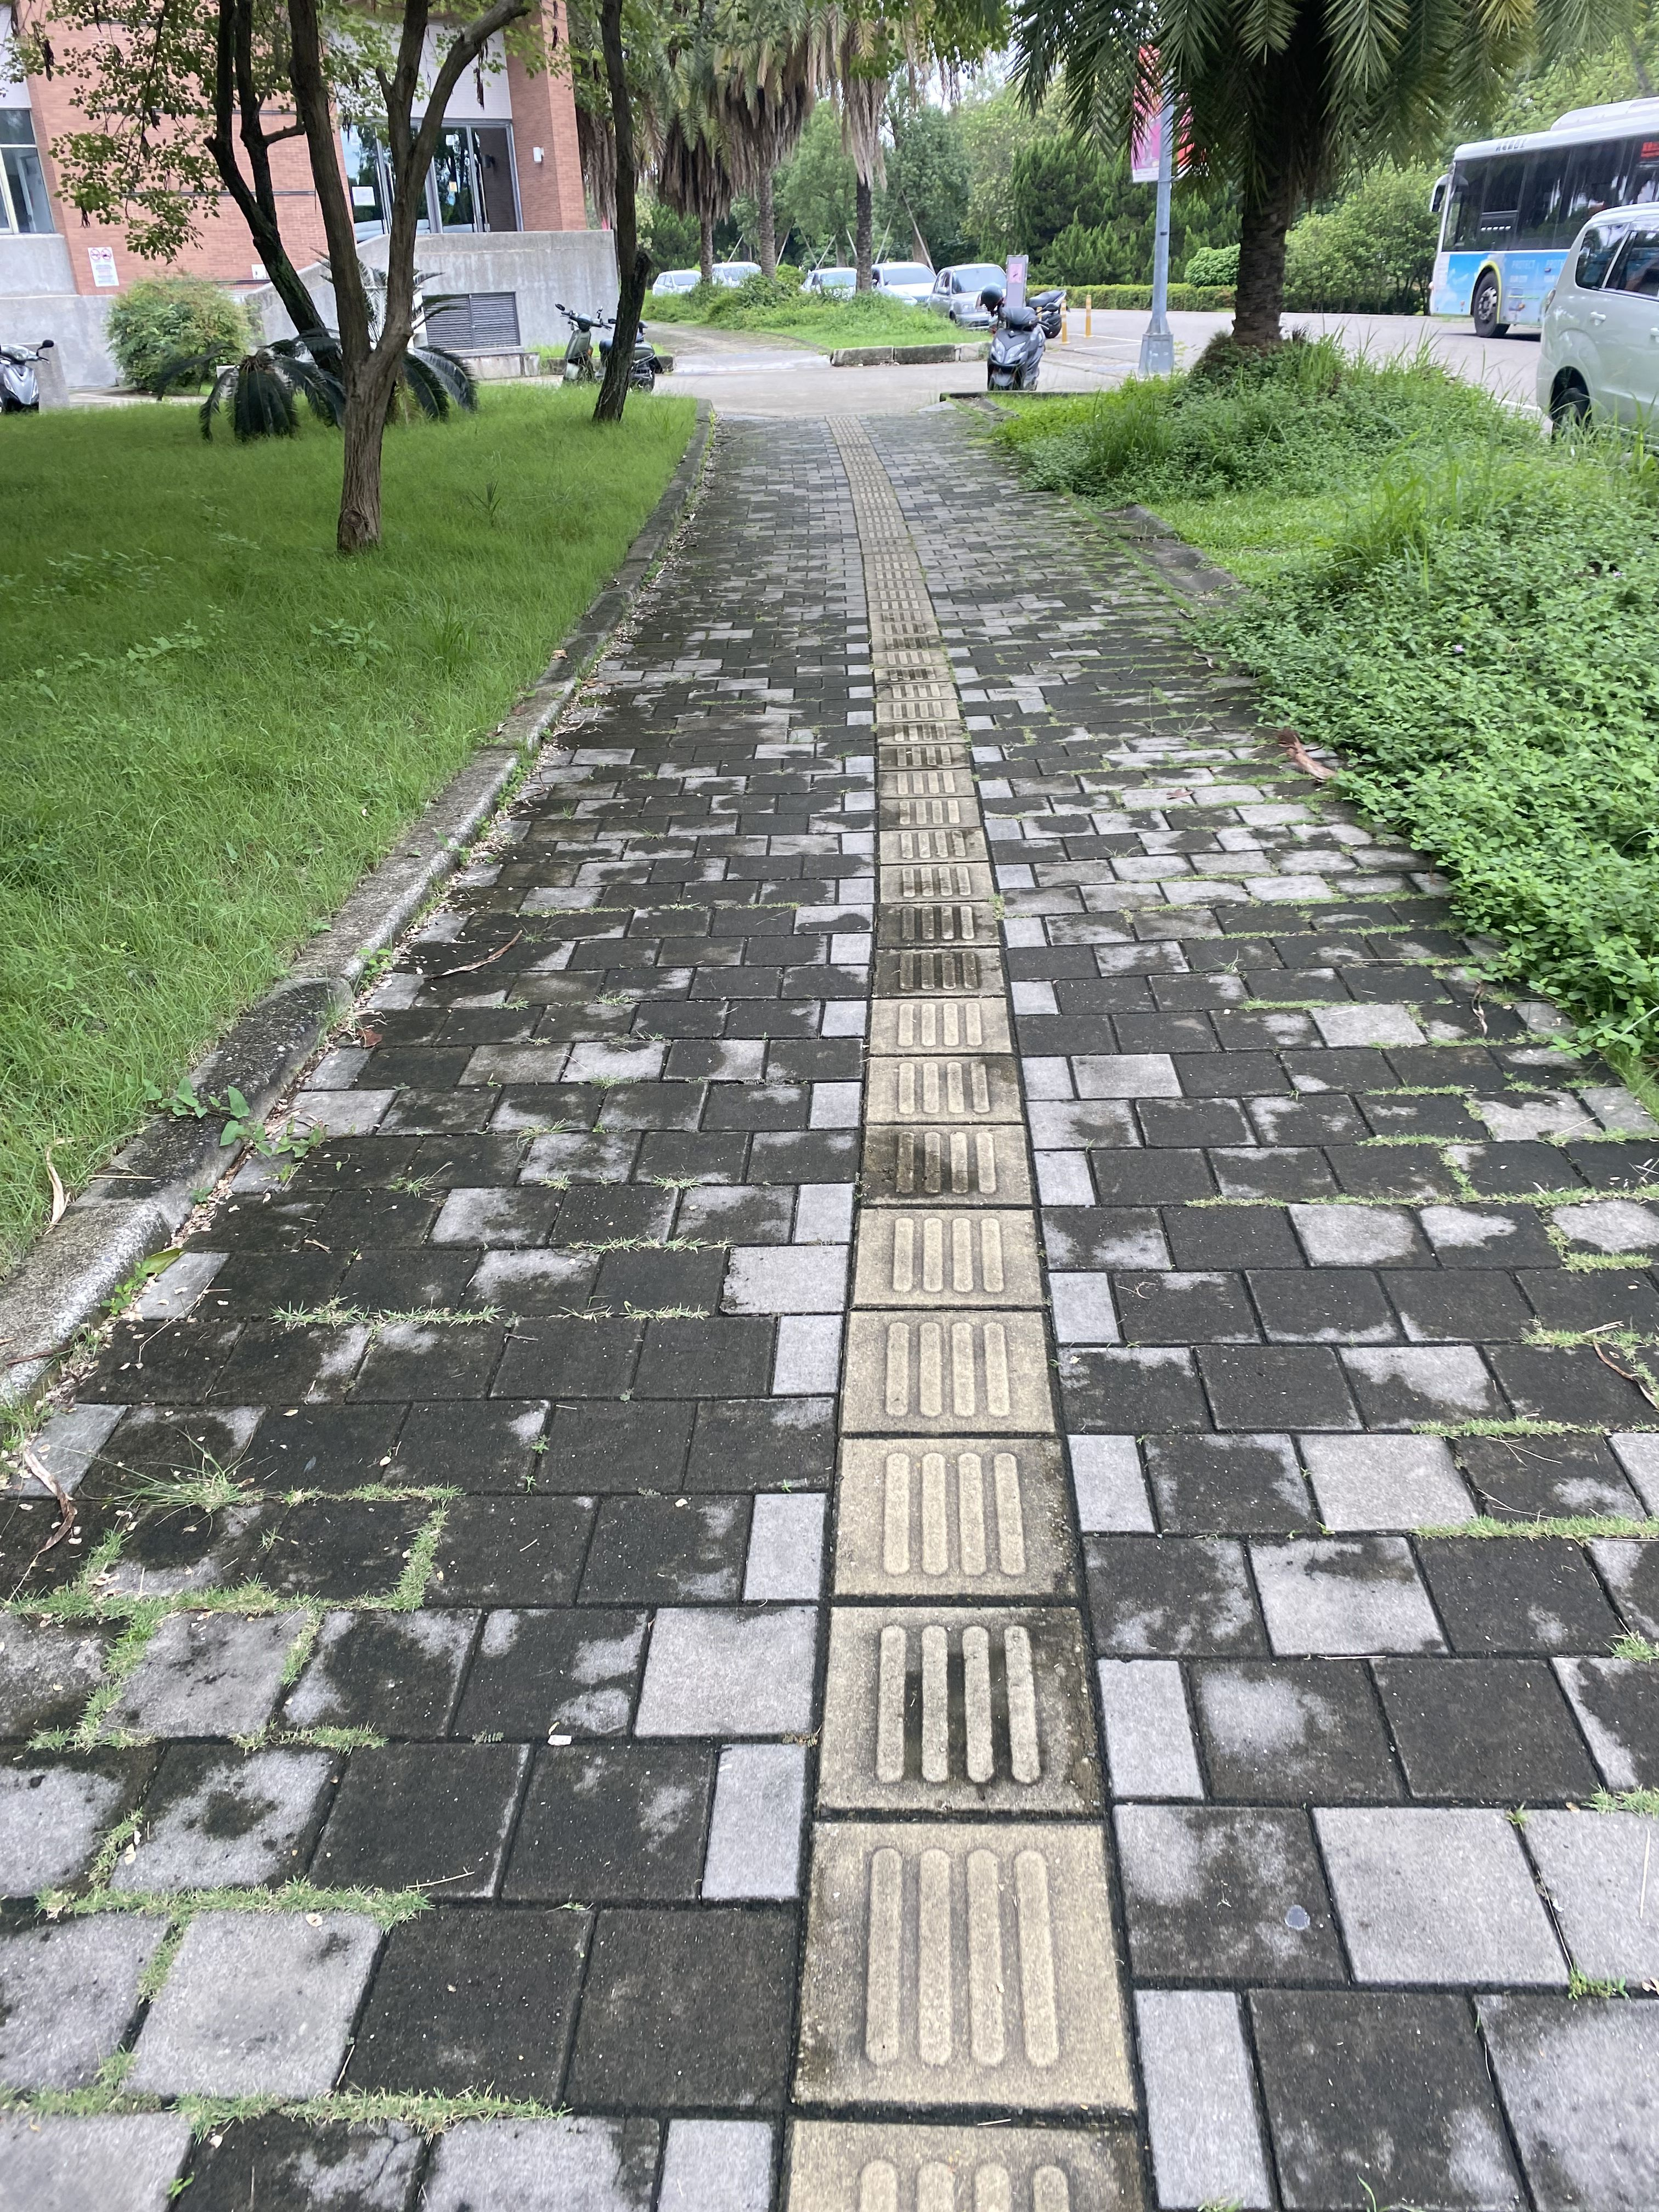sidewalk: (0, 388, 1659, 2212)
